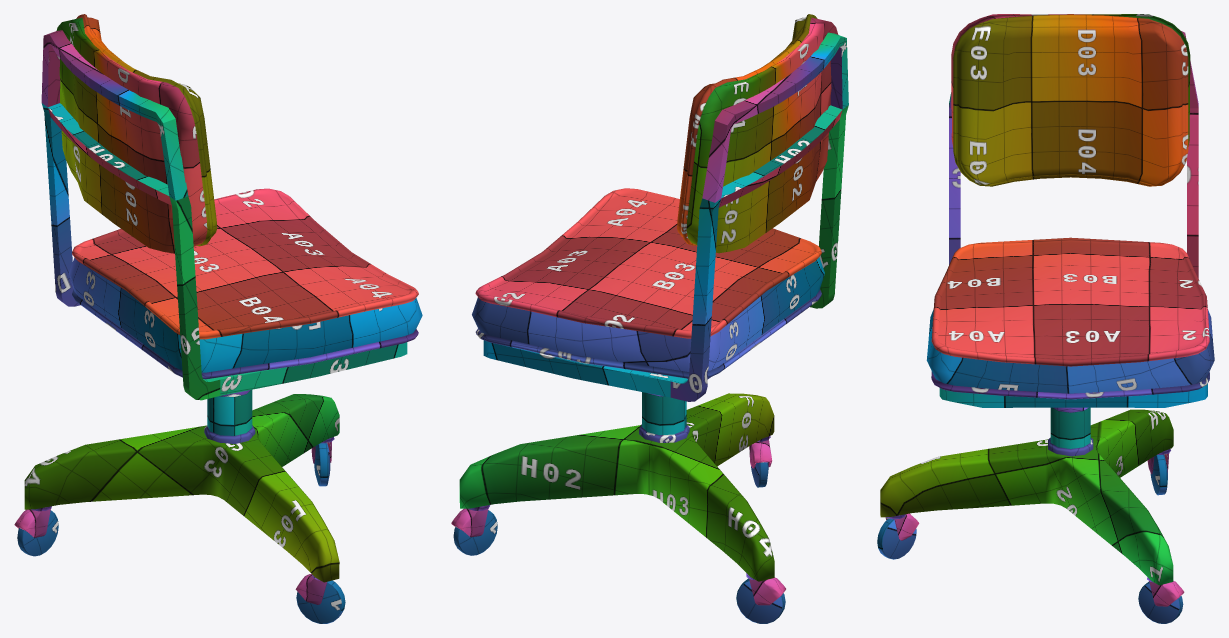
The model's file is Chair_gameasset.fbx.
3 renders of one model, left to right at view 1: azimuth 30°, elevation 25°; view 2: azimuth 150°, elevation 25°; view 3: azimuth 270°, elevation 25°, orthographic. The views are drawn at different scales.
Parts seen in each view (by area): view 1: Chair_gameasset_ChairSupport_low, Chair_gameasset_Wheel_low_01; view 2: Chair_gameasset_ChairSupport_low, Chair_gameasset_Wheel_low_01; view 3: Chair_gameasset_ChairSupport_low, Chair_gameasset_Wheel_low_01.
Boxes of the visible parts, x1,y1,x2,y2 form: Chair_gameasset_ChairSupport_low: (41, 14, 422, 400); Chair_gameasset_Wheel_low_01: (14, 389, 345, 623); Chair_gameasset_ChairSupport_low: (472, 14, 848, 401); Chair_gameasset_Wheel_low_01: (451, 392, 785, 623); Chair_gameasset_ChairSupport_low: (926, 14, 1214, 407); Chair_gameasset_Wheel_low_01: (877, 407, 1184, 623).
Bounding box in the file's own units: 85.01 × 133 × 82.45.
